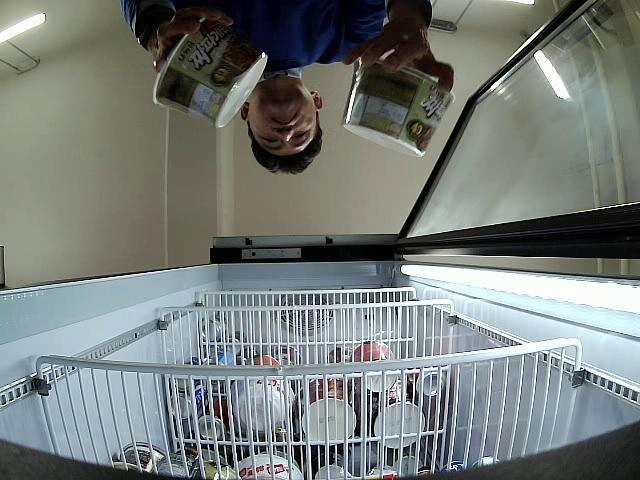03_chapagetti_L: (154, 19, 268, 128), (342, 56, 454, 157)
